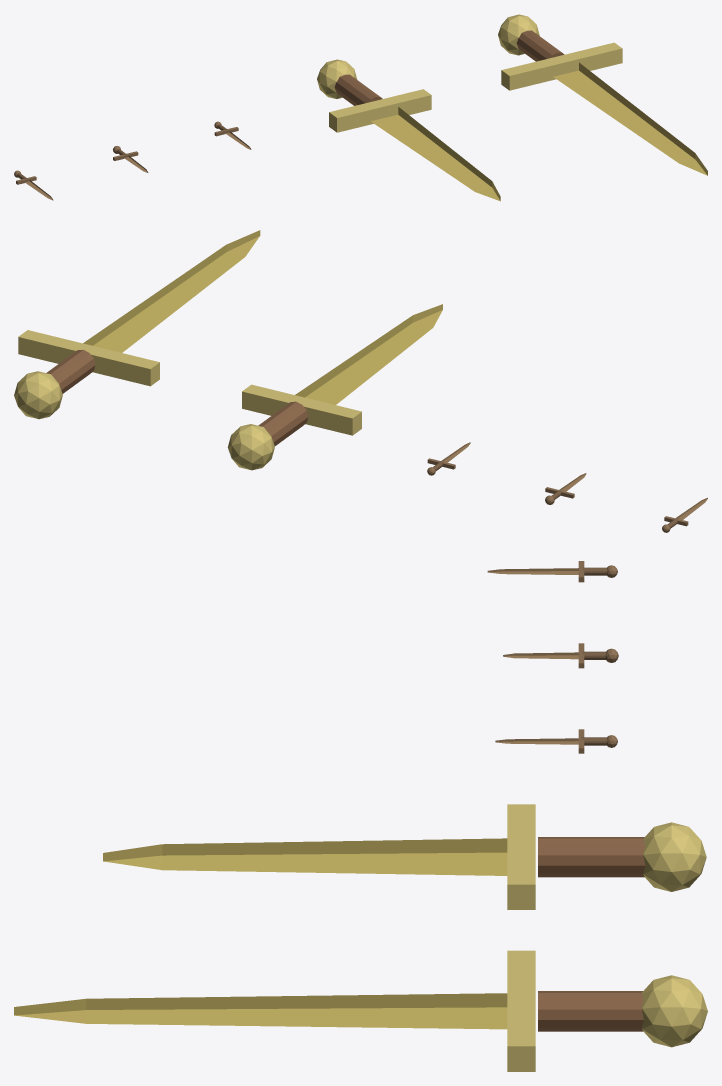
The model's file is 3_tiny_wooden_blades_and_2_giant_golden_swords.glb.
3 renders of one model, top to bottom at view 1: azimuth 30°, elevation 25°; view 2: azimuth 150°, elevation 25°; view 3: azimuth 270°, elevation 25°, orthographic. The views are drawn at different scales.
Parts seen in each view (by area): view 1: sword_4_0, sword_3_0, sword_4_1, sword_3_1, sword_4_3, sword_3_3, sword_3_2, sword_4_2; view 2: sword_4_0, sword_3_0, sword_4_1, sword_3_1, sword_4_3, sword_3_3, sword_3_2, sword_4_2; view 3: sword_4_0, sword_3_0, sword_3_2, sword_4_2, sword_4_3, sword_4_1, sword_3_3, sword_3_1.
Boxes of the visible parts, x1,y1,x2,y2 form: sword_4_0: [553, 62, 707, 175]; sword_3_0: [371, 107, 500, 201]; sword_4_1: [501, 42, 622, 90]; sword_3_1: [329, 89, 431, 132]; sword_4_3: [498, 14, 539, 55]; sword_3_3: [317, 59, 357, 98]; sword_3_2: [334, 74, 382, 105]; sword_4_2: [516, 30, 564, 61]; sword_4_0: [83, 230, 260, 352]; sword_3_0: [295, 304, 442, 404]; sword_4_1: [18, 330, 159, 386]; sword_3_1: [242, 384, 361, 435]; sword_4_3: [14, 371, 62, 419]; sword_3_3: [227, 424, 274, 470]; sword_3_2: [258, 401, 308, 445]; sword_4_2: [46, 349, 95, 393]; sword_4_0: [14, 993, 507, 1029]; sword_3_0: [103, 838, 507, 875]; sword_3_2: [538, 837, 645, 877]; sword_4_2: [538, 991, 643, 1031]; sword_4_3: [642, 975, 707, 1047]; sword_4_1: [507, 950, 535, 1071]; sword_3_3: [643, 822, 706, 891]; sword_3_1: [507, 804, 535, 909].
Size of the model in its own units: 14.99 by 0.9295 by 8.87.
